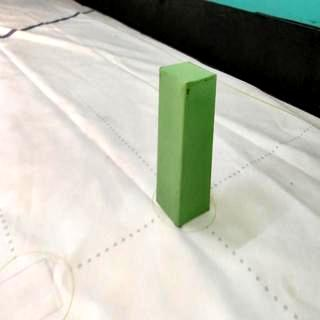greenbox: (156, 60, 218, 228)
